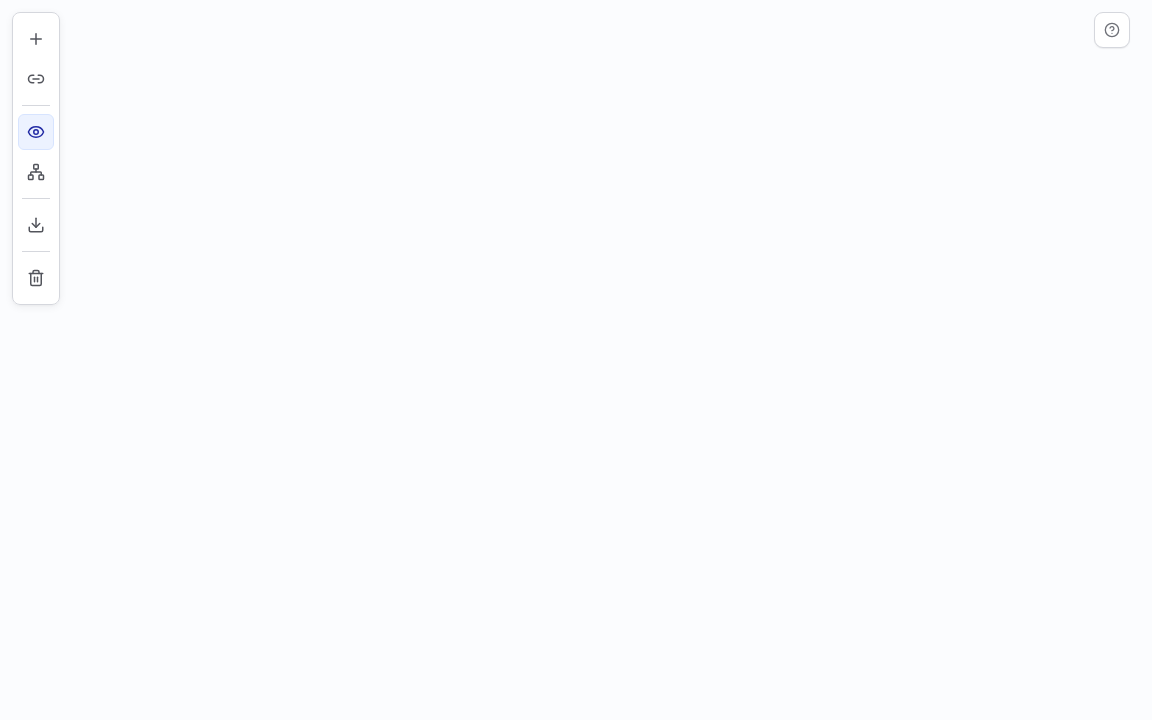
Test: GraphPanels - layout preset menu › кнопка «Раскладка» открывает меню с тремя preset-вариантами
Click the button named "Раскладка". click: (36, 172)
box: [18,154,54,190]
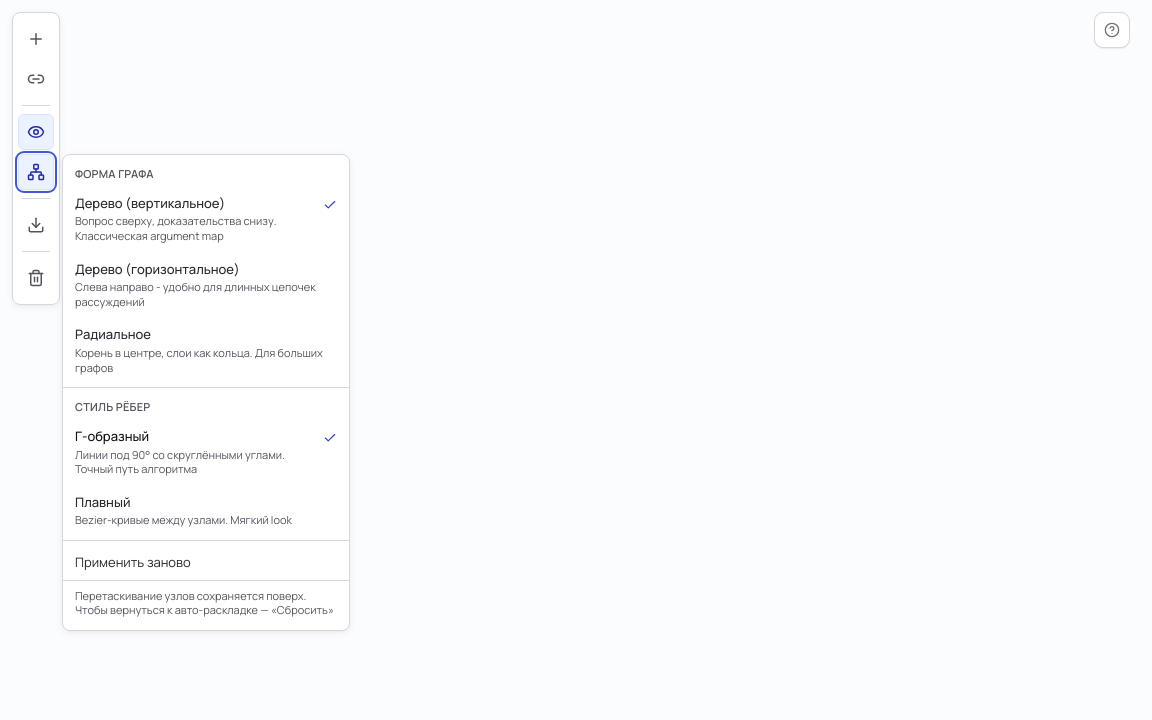
Now the menu item "Дерево (вертикальное)" is shown, box [63,186,349,252]
Now the menu item "Дерево (горизонтальное)" is shown, box [63,252,349,317]
Now the menu item "Радиальное" is shown, box [63,317,349,383]
